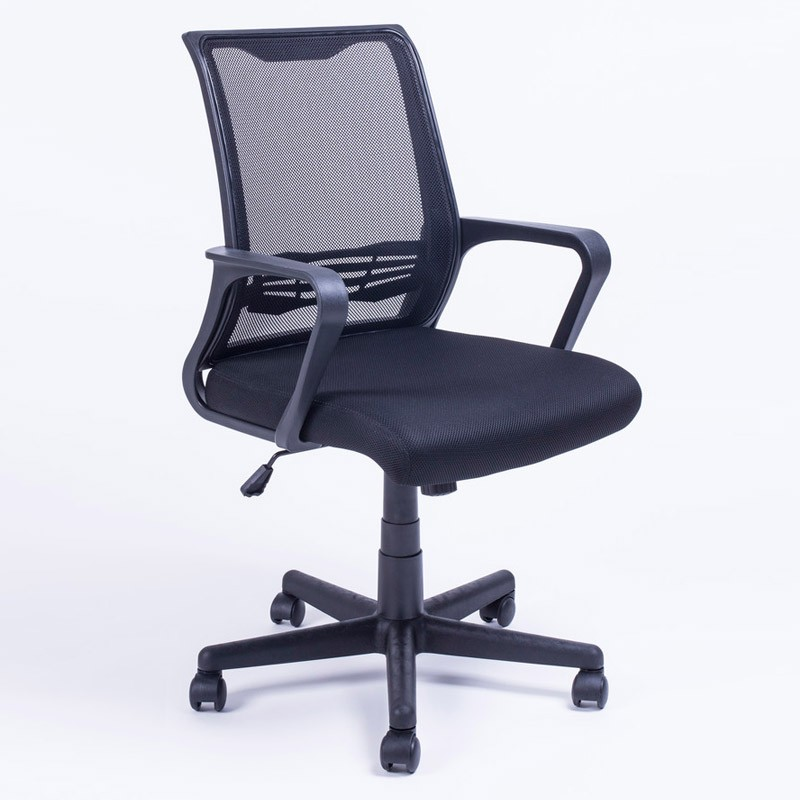chairs: (157, 20, 635, 780)
